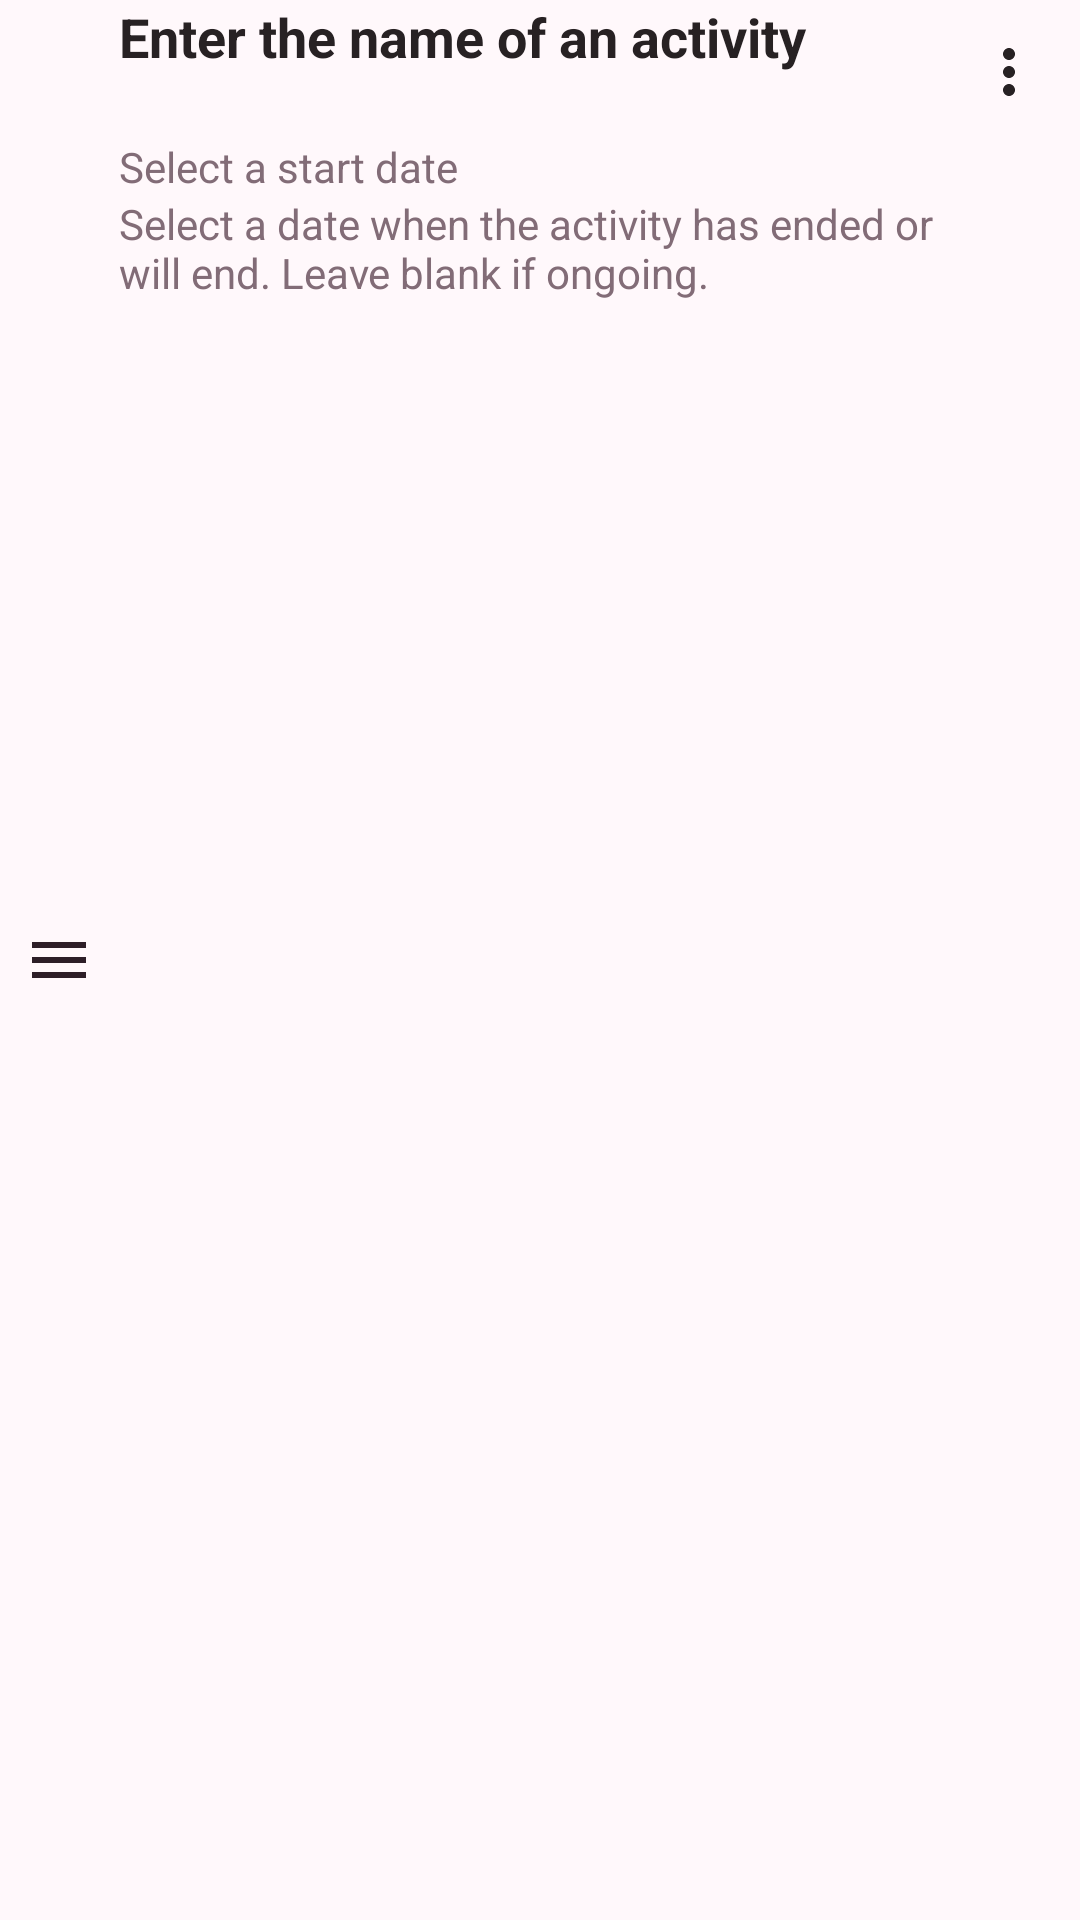

Icons on this 1080px x 1920px Android screen, each with its box as (x1, y1, x2, y2):
Drag to reorder: (32, 942, 86, 978)
More details: (1003, 48, 1015, 96)
